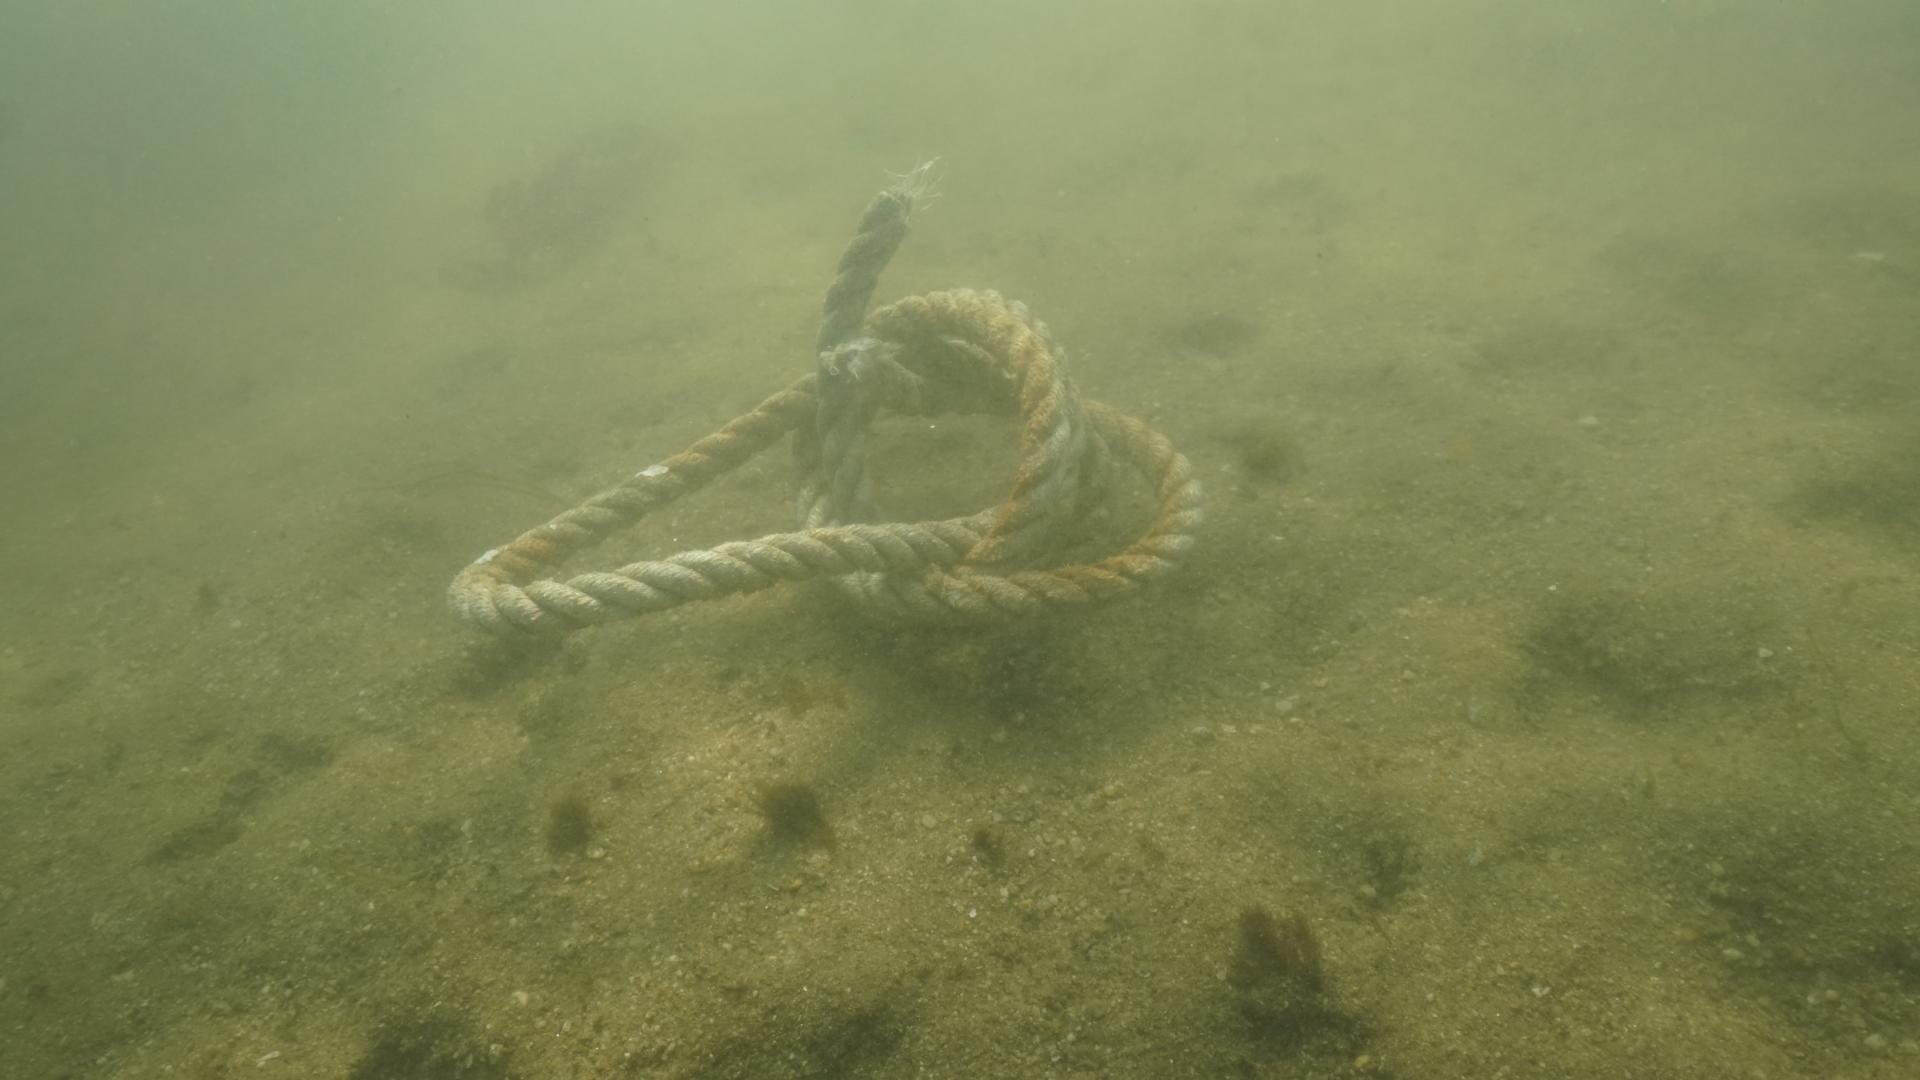bundle of ropes: (436, 193, 1218, 640)
